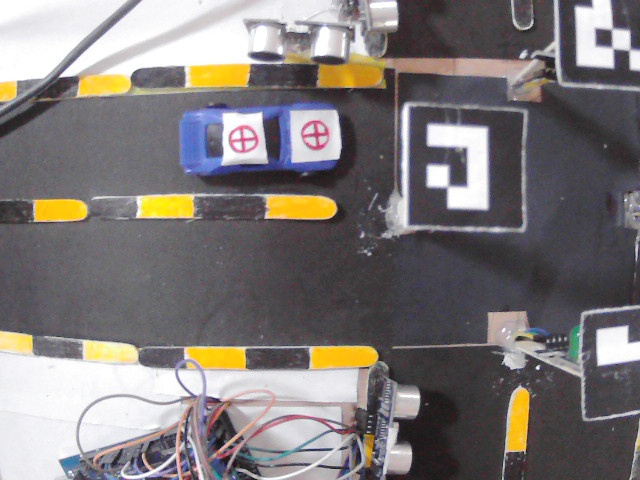aruco_marker: (400, 101, 526, 234), (553, 1, 640, 94), (576, 302, 640, 423)
emergency_vehicle: (173, 99, 345, 182)
uno_breadboard: (56, 404, 270, 480), (369, 378, 423, 477), (240, 15, 353, 62), (346, 0, 400, 37)
